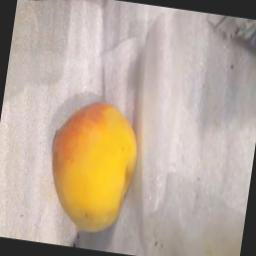Peach Ripe: (30, 88, 150, 247)
